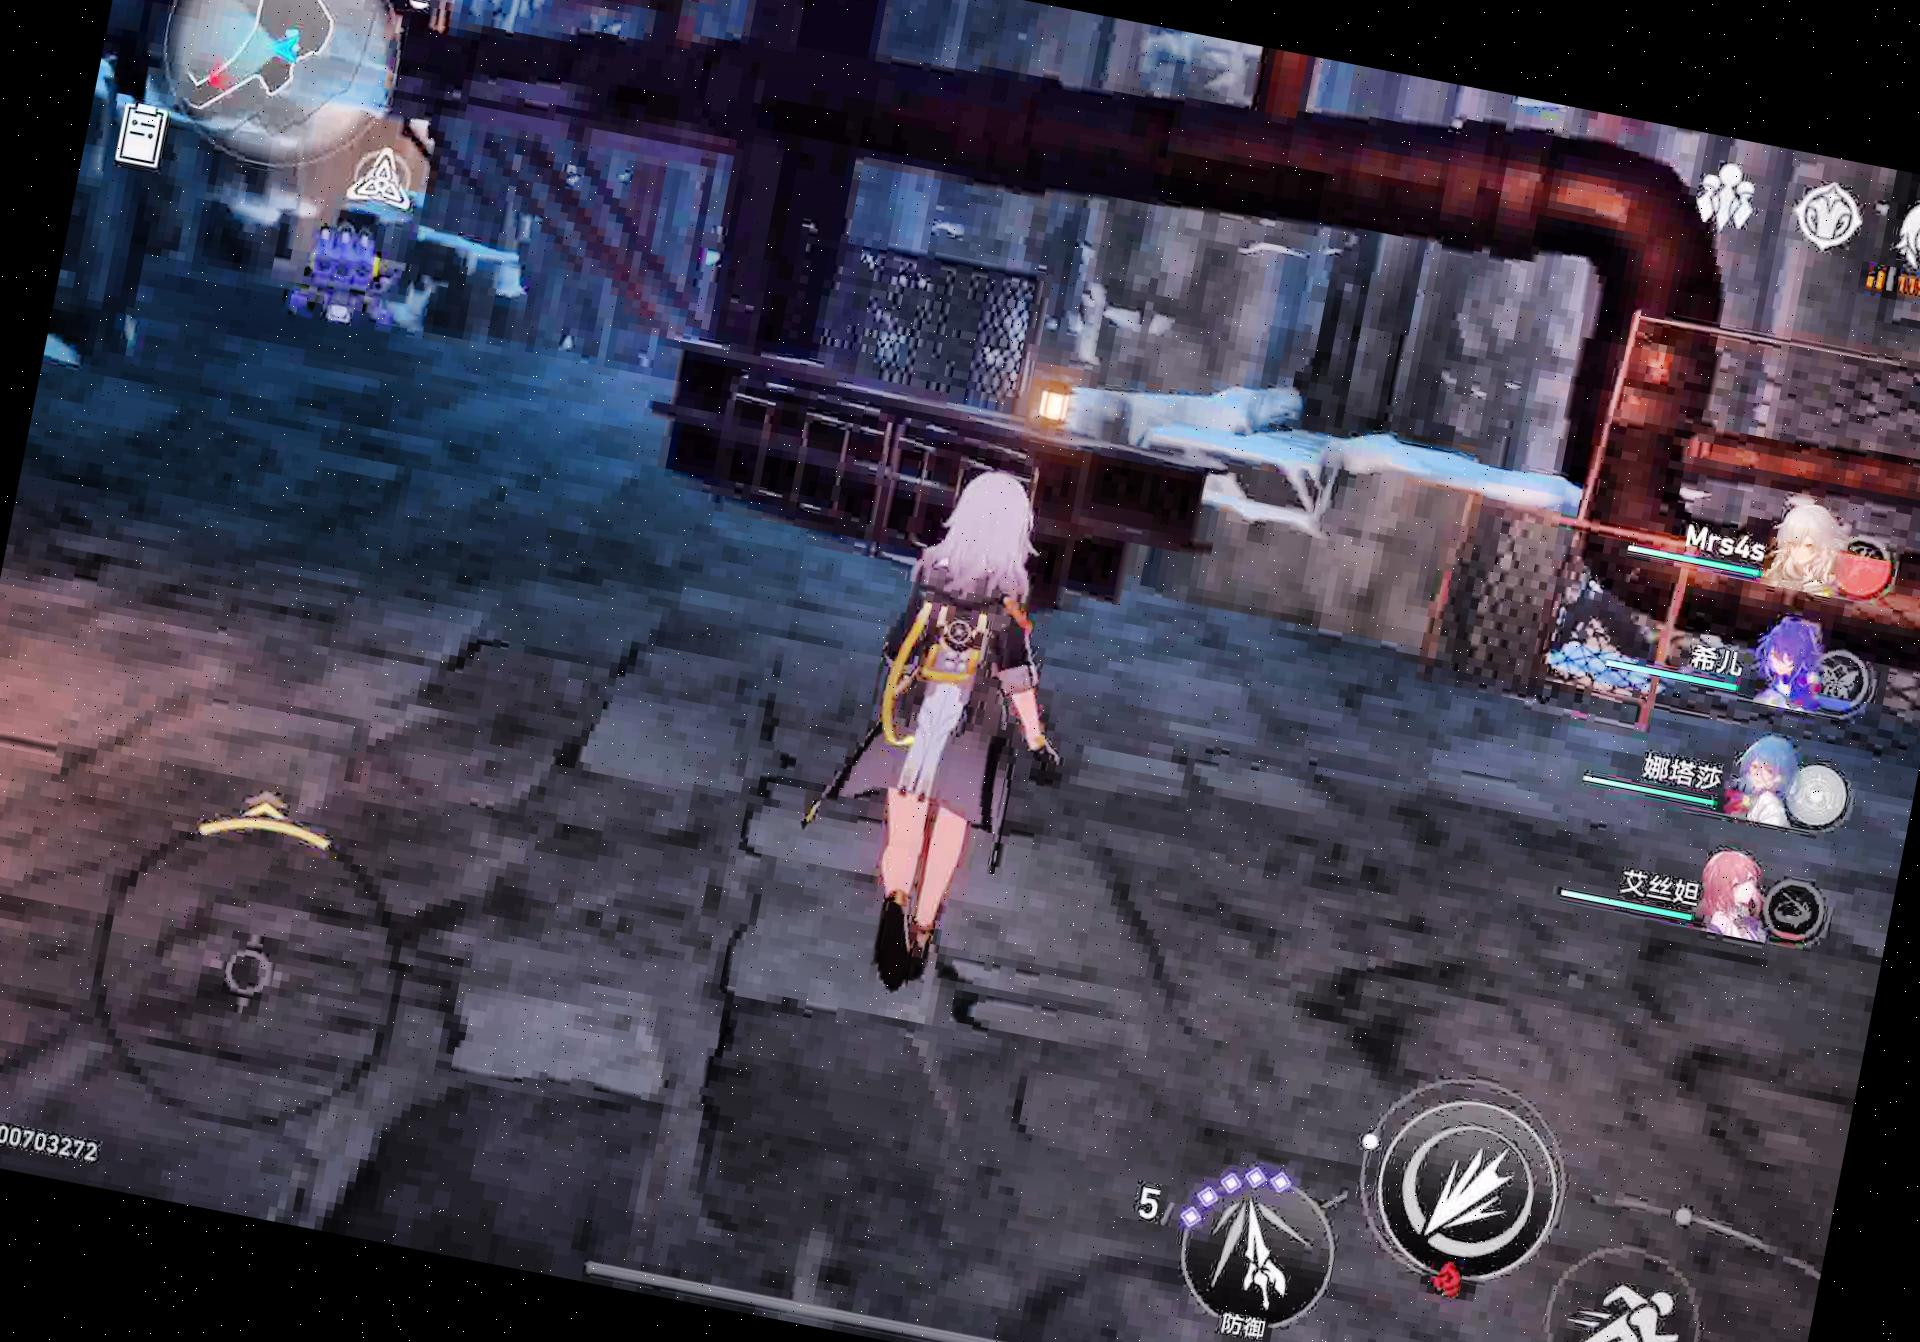Enemy: (277, 223, 406, 337)
Self: (797, 457, 1116, 1020)
